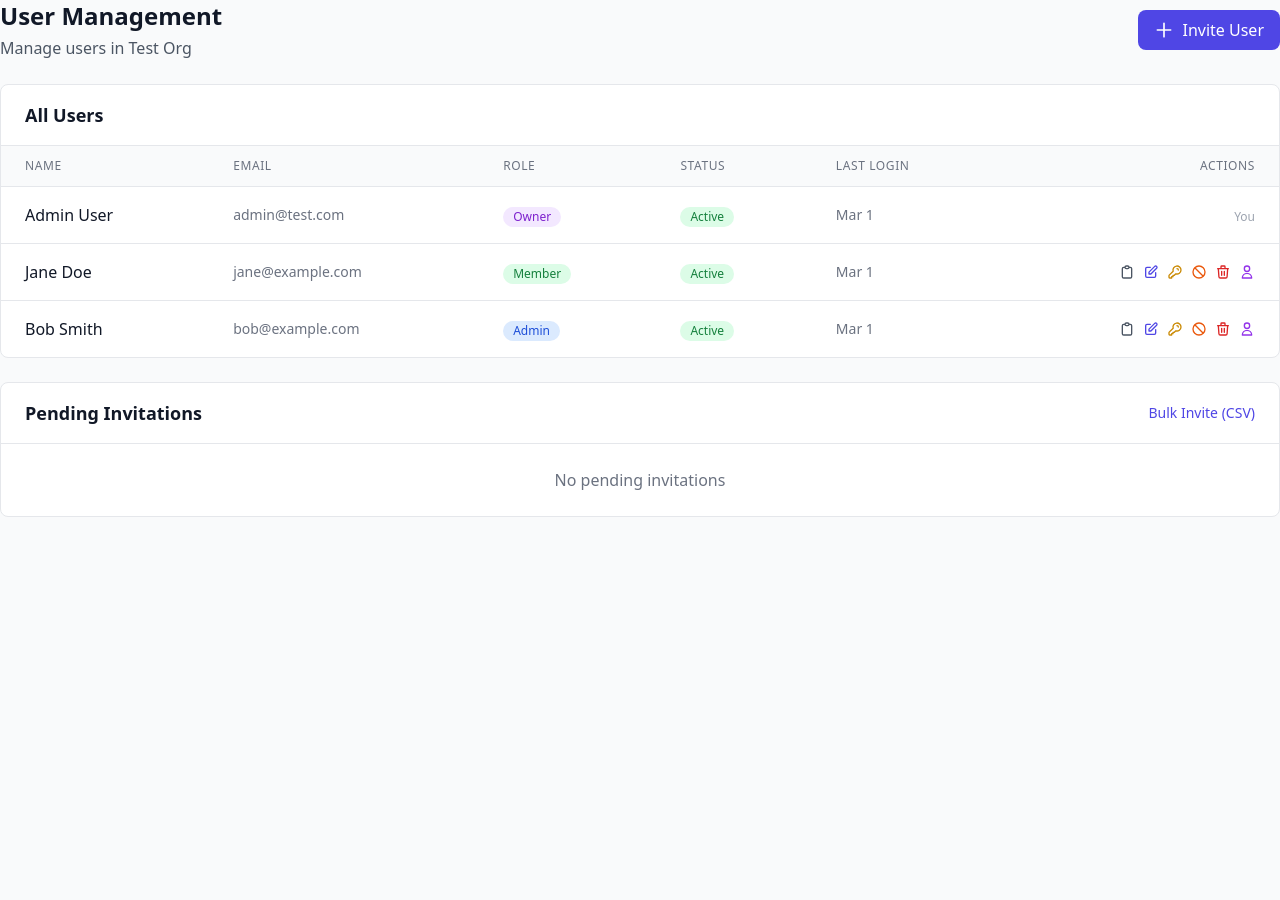
Test: UserManagement page › edit user modal › opens edit modal when edit button is clicked
Click the button titled "Edit" in the row of "Jane Doe" at x=1151, y=272, box [1143, 264, 1159, 280]
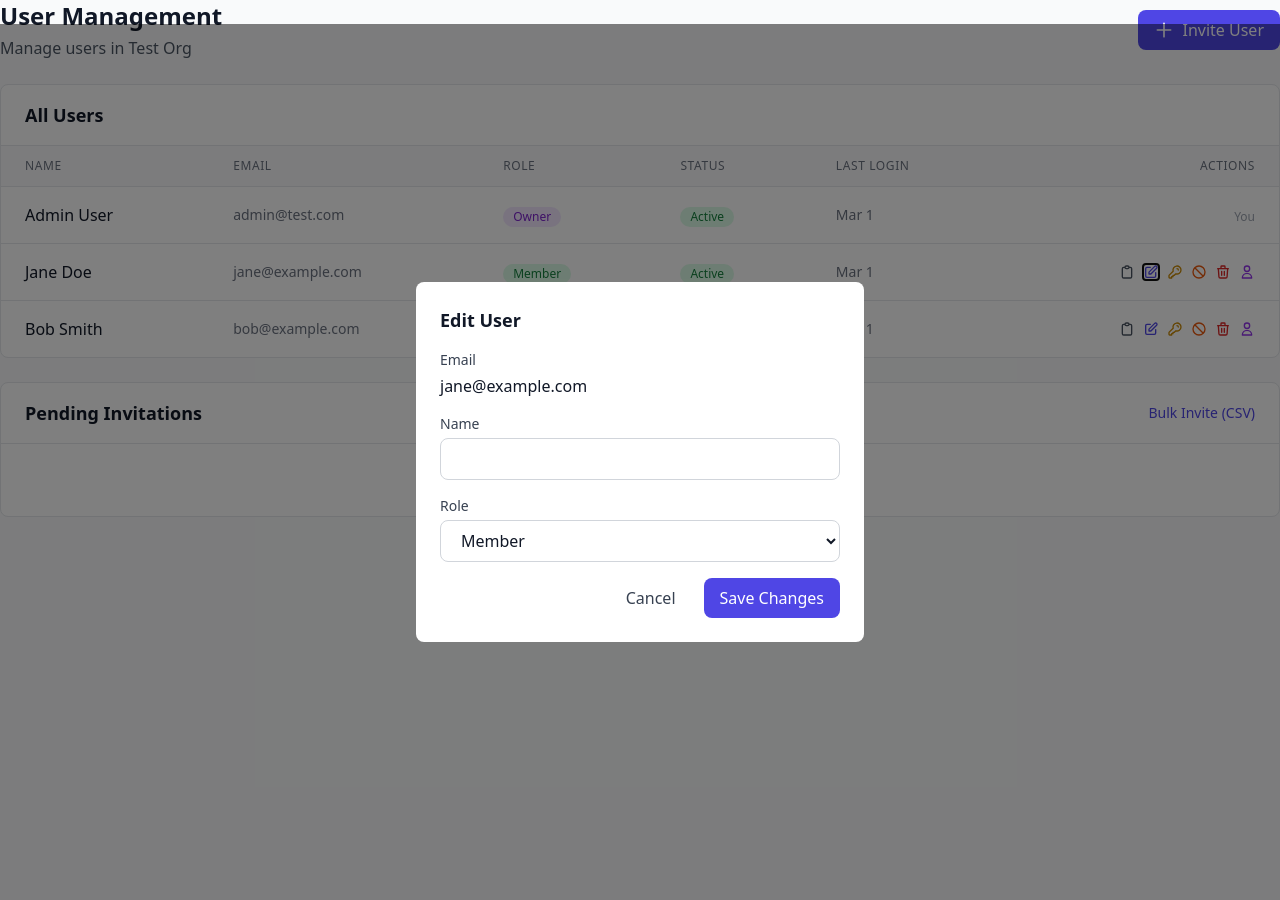
Check: the heading "Edit User" is shown, box [440, 308, 521, 332]
